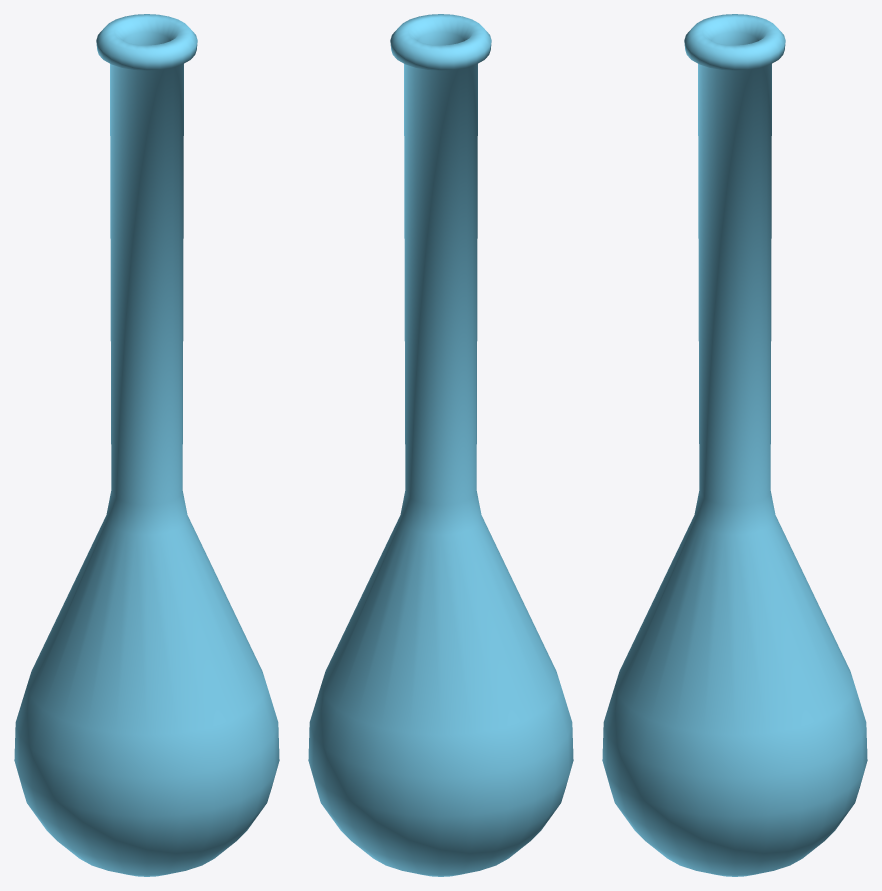
File: Flask, Kjeldahl, Long Neck.fbx
3 renders of one model, left to right at view 1: azimuth 30°, elevation 25°; view 2: azimuth 150°, elevation 25°; view 3: azimuth 270°, elevation 25°, orthographic.
Parts seen in each view (by area): view 1: Flask, Kjeldahl, Long Neck_LOD0; view 2: Flask, Kjeldahl, Long Neck_LOD0; view 3: Flask, Kjeldahl, Long Neck_LOD0.
Boxes of the visible parts, x1=… form: Flask, Kjeldahl, Long Neck_LOD0: x1=14, y1=14, x2=279, y2=876; Flask, Kjeldahl, Long Neck_LOD0: x1=308, y1=14, x2=573, y2=876; Flask, Kjeldahl, Long Neck_LOD0: x1=602, y1=14, x2=867, y2=876.
Size of what is drawn, in the model's own units: 0.5726 by 1.99 by 0.5726.
